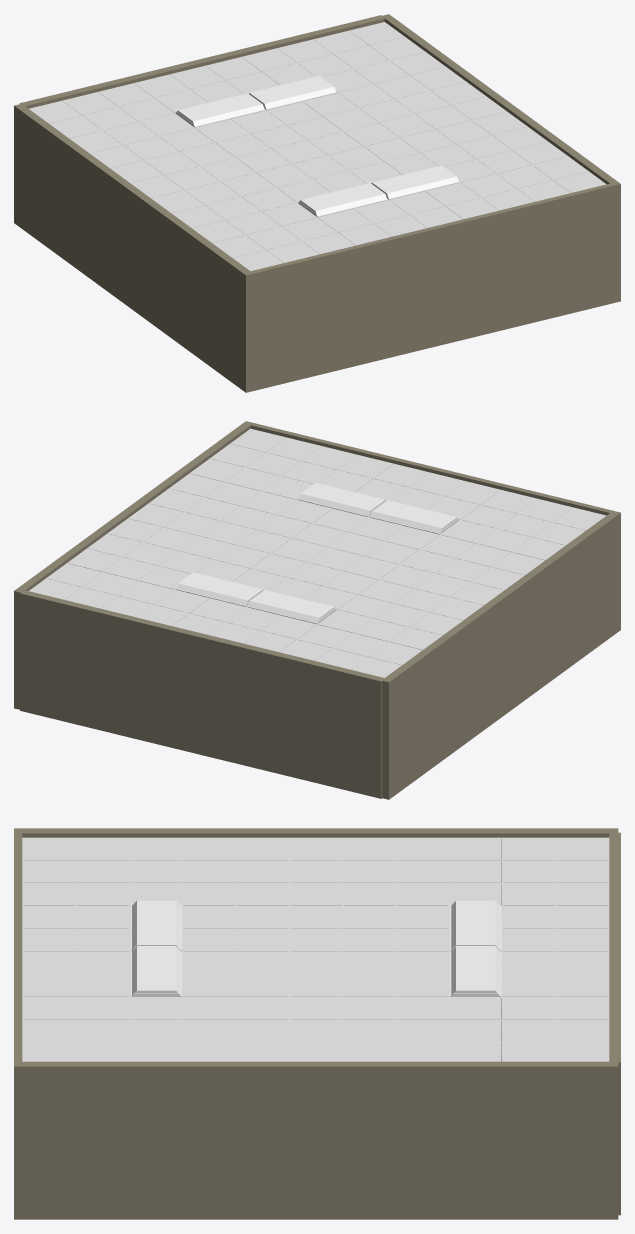
The model's file is empty_room.glb.
3 renders of one model, top to bottom at view 1: azimuth 30°, elevation 25°; view 2: azimuth 150°, elevation 25°; view 3: azimuth 270°, elevation 25°, orthographic. The views are drawn at different scales.
Parts seen in each view (by area): view 1: Object_17, Object_15, Object_29, Object_22, Object_24, Object_25, Object_23; view 2: Object_17, Object_15, Object_29, Object_24, Object_22, Object_23, Object_25; view 3: Object_15, Object_17, Object_29, Object_23, Object_25, Object_22, Object_24.
Boxes of the visible parts, x1,y1,x2,y2 form: Object_17: (14, 14, 620, 392); Object_15: (29, 22, 604, 271); Object_29: (30, 22, 606, 263); Object_22: (175, 93, 265, 127); Object_24: (298, 183, 387, 217); Object_25: (371, 165, 459, 199); Object_23: (249, 76, 336, 110); Object_17: (14, 421, 620, 799); Object_15: (30, 429, 605, 677); Object_29: (29, 428, 606, 669); Object_24: (370, 500, 459, 534); Object_22: (247, 590, 337, 624); Object_23: (175, 572, 263, 606); Object_25: (298, 483, 385, 517); Object_15: (24, 838, 608, 1061); Object_17: (14, 828, 620, 1219); Object_29: (22, 837, 609, 1061); Object_23: (450, 946, 501, 996); Object_25: (131, 946, 181, 996); Object_22: (450, 900, 501, 951); Object_24: (131, 900, 181, 951).
Bounding box in the file's own units: 11.59 × 3.51 × 12.47.
